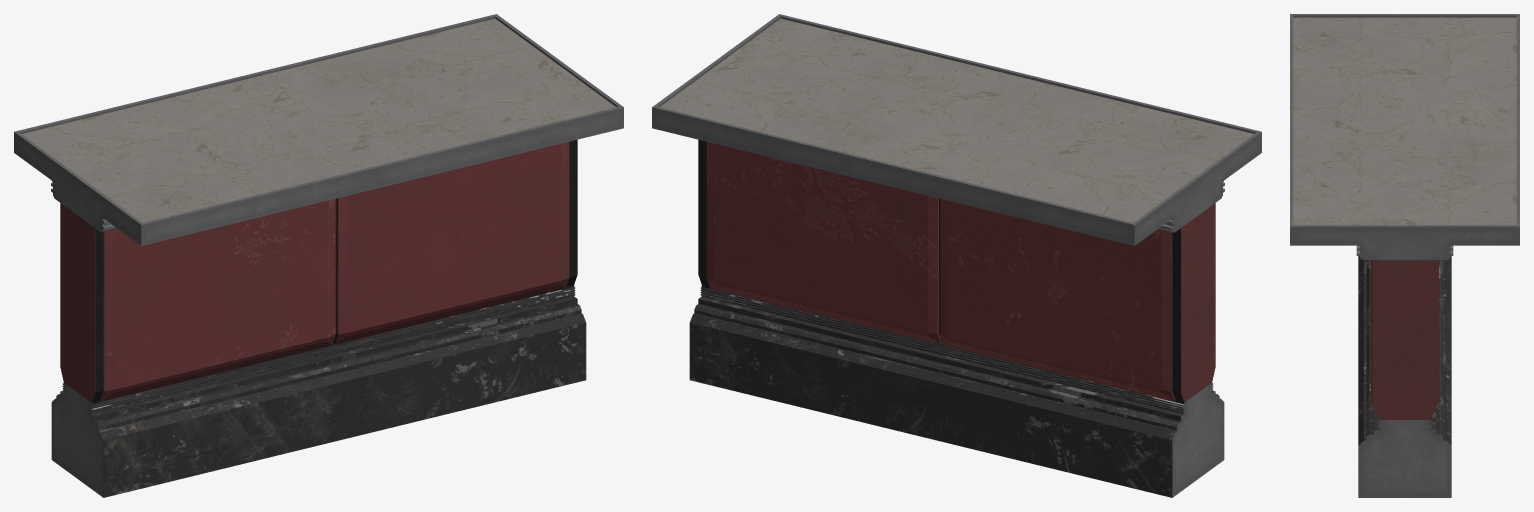
The model's file is Bar Counter American Diner v1.glb.
3 views of the same model, side by side, from view 1: azimuth 30°, elevation 25°; view 2: azimuth 150°, elevation 25°; view 3: azimuth 270°, elevation 25° (orthographic). The views are drawn at different scales.
Parts seen in each view (by area): view 1: SM_Bartable; view 2: SM_Bartable; view 3: SM_Bartable.
Boxes of the visible parts, x1,y1,x2,y2 form: SM_Bartable: (14,14,623,497); SM_Bartable: (652,14,1261,497); SM_Bartable: (1290,14,1519,497).
Bounding box in the file's own units: 1.62 × 0.9644 × 0.7405.
Materials: 1 (1 with a texture image).
